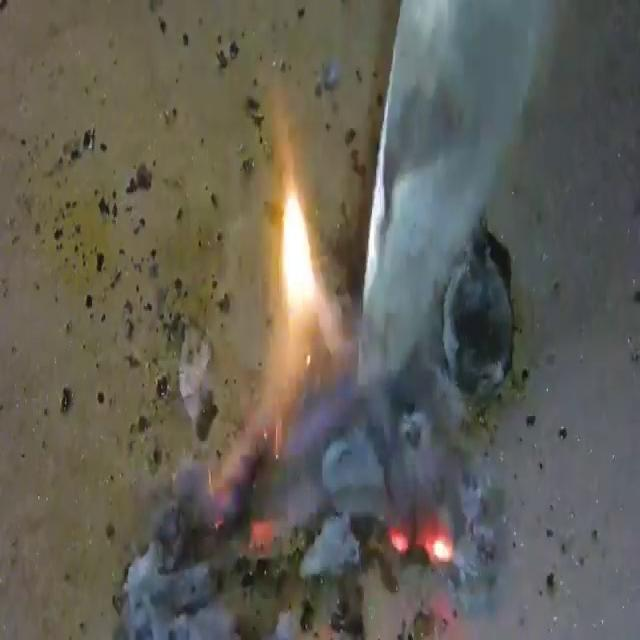Fire: (214, 50, 458, 601)
